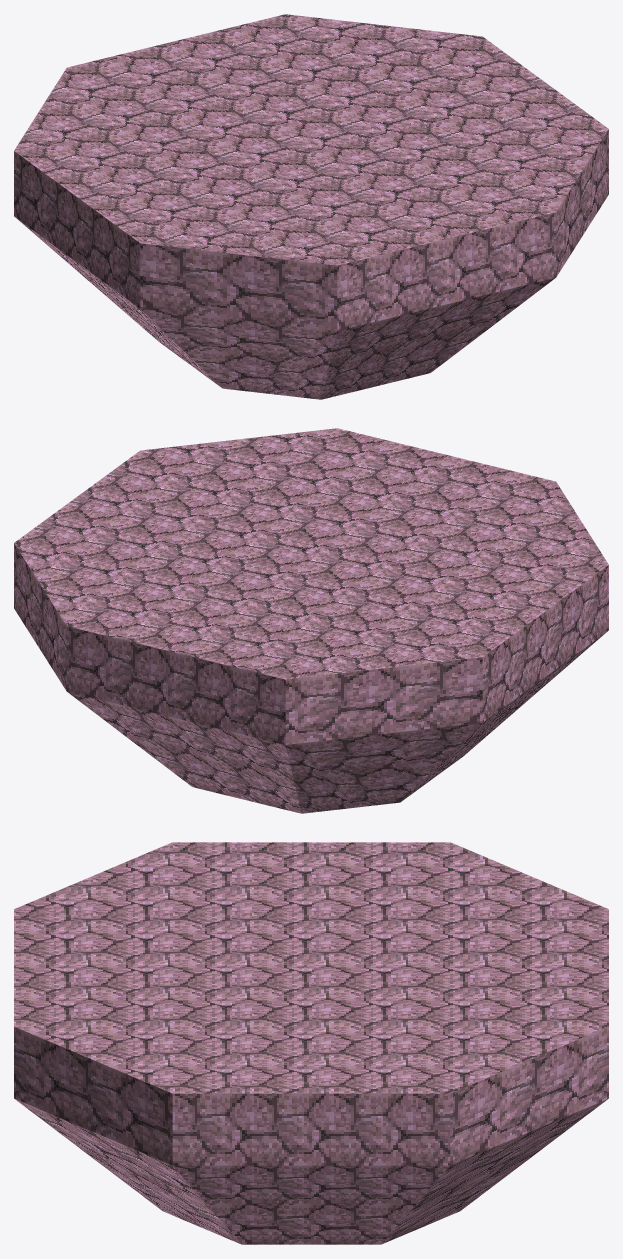
The model's file is km3_kaitendai.glb.
3 renders of one model, top to bottom at view 1: azimuth 30°, elevation 25°; view 2: azimuth 150°, elevation 25°; view 3: azimuth 270°, elevation 25°, orthographic. The views are drawn at different scales.
Visible parts, largest first — view 1: km3_kaitendai; view 2: km3_kaitendai; view 3: km3_kaitendai.
Part boxes in pixels (left/top/right/bottom): km3_kaitendai: left=14, top=14, right=608, bottom=399; km3_kaitendai: left=14, top=428, right=608, bottom=813; km3_kaitendai: left=14, top=842, right=608, bottom=1244.
Size of the model in its own units: 188 by 75 by 188.
1 material, 1 textured.
